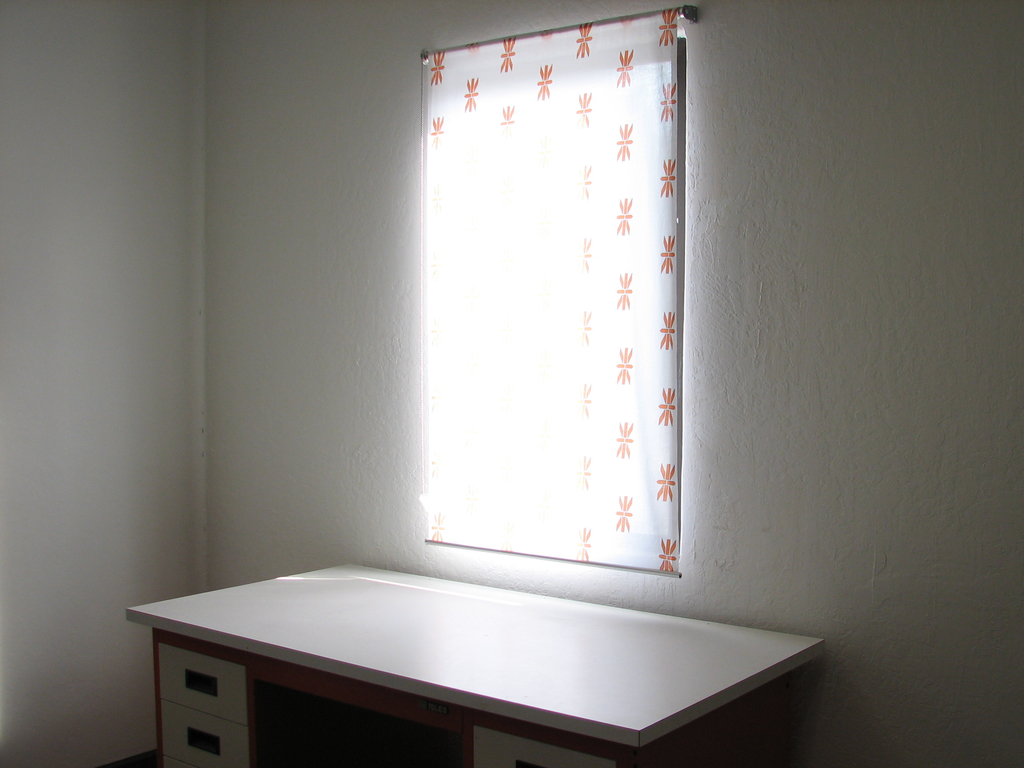cabinet door: (158, 709, 242, 755), (163, 657, 241, 703)
handle: (184, 666, 221, 698), (186, 722, 222, 752)
